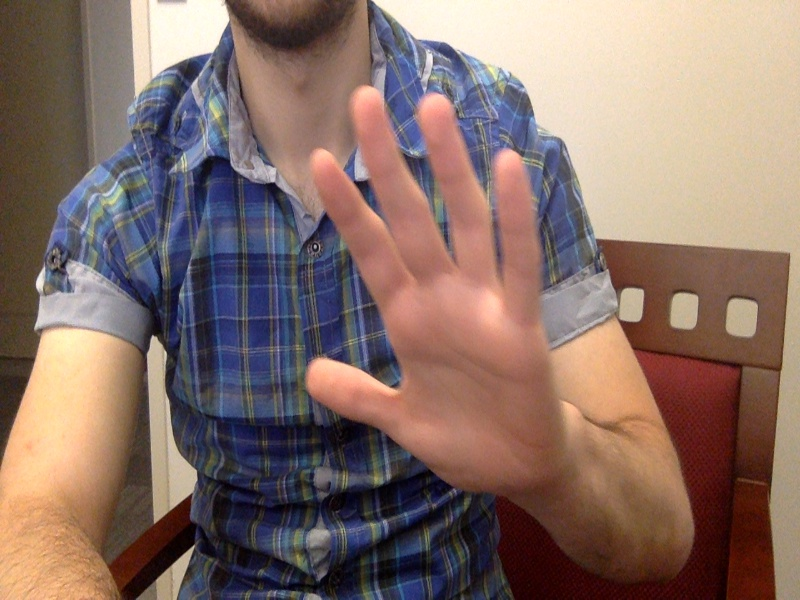5-hand: (304, 87, 567, 511)
